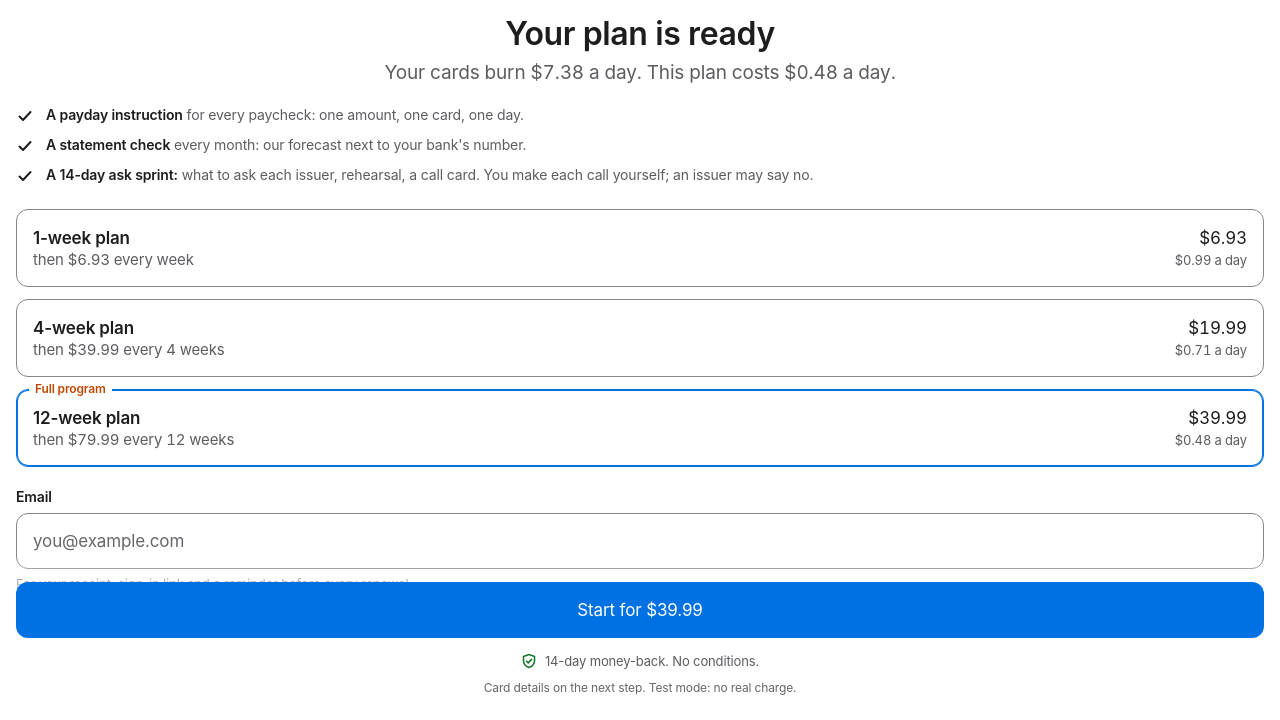
PaywallForm › asks for an email before anything else
Earlier steps of the test are not shown.
Step 1. Click the button with test id "plan-cta" → [640, 610], box [16, 582, 1264, 638]
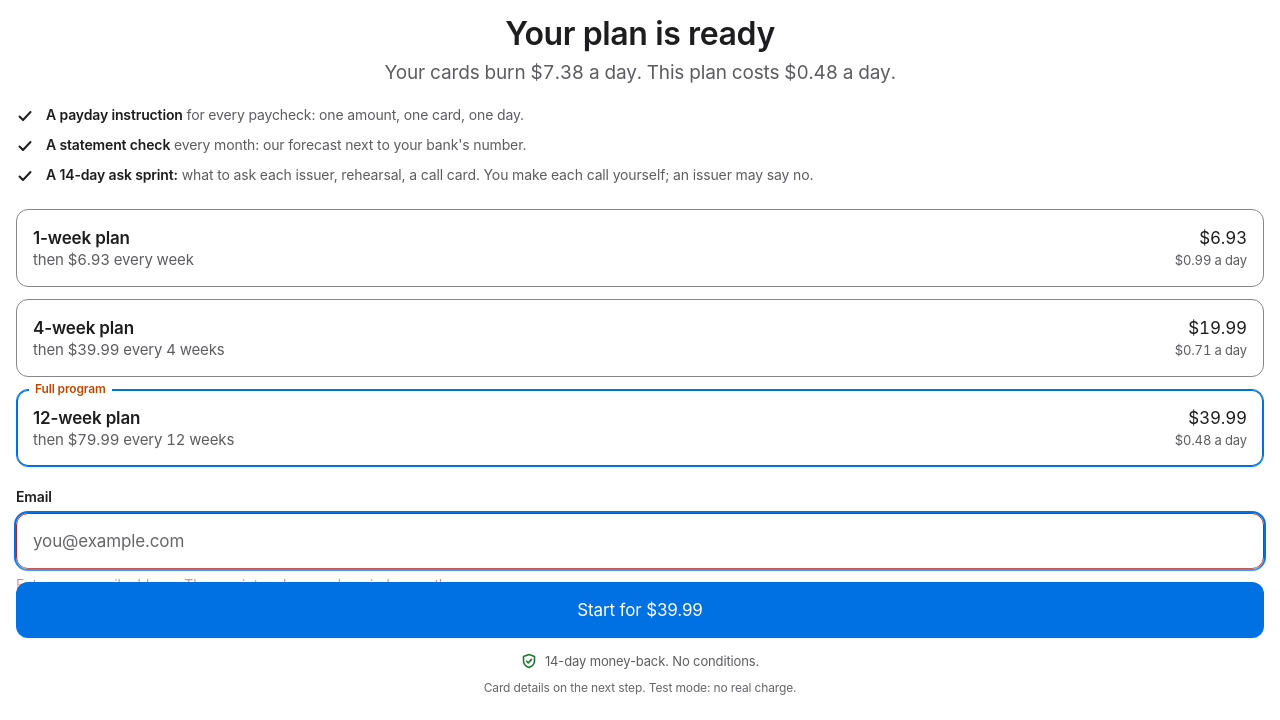
Expected: the message shows "Enter your email address", [16, 576, 472, 593]
